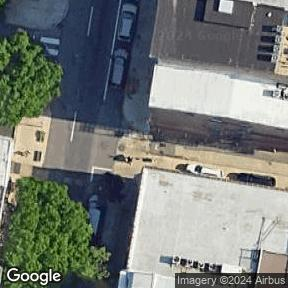vegetation: (2, 177, 110, 288), (0, 32, 62, 130)
